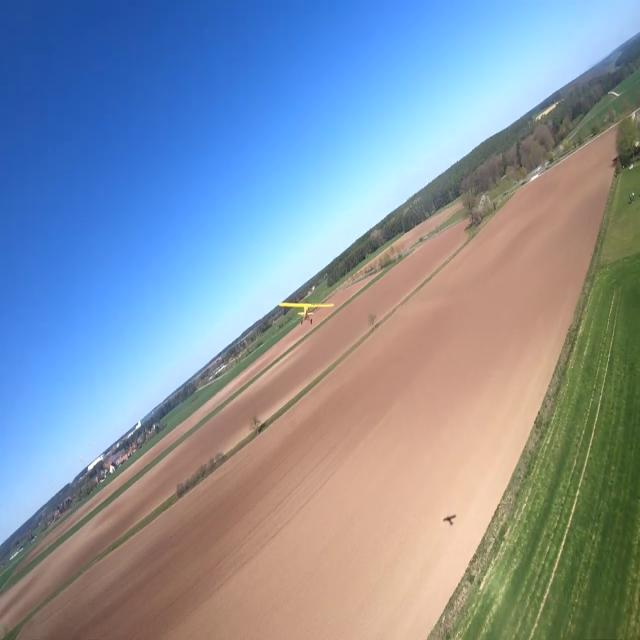iha: (278, 300, 334, 324)
